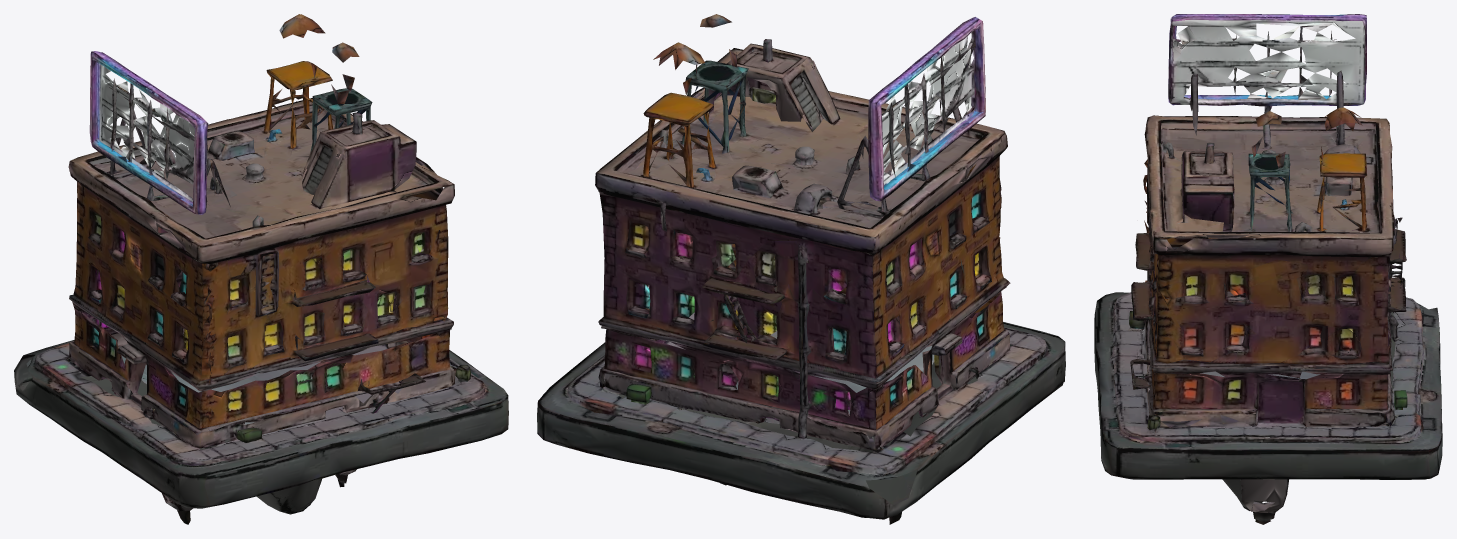
Rendered from tower-d.glb.
3 views of the same model, side by side, from view 1: azimuth 30°, elevation 25°; view 2: azimuth 150°, elevation 25°; view 3: azimuth 270°, elevation 25° (orthographic). The views are drawn at different scales.
Parts seen in each view (by area): view 1: geometry_0; view 2: geometry_0; view 3: geometry_0.
Boxes of the visible parts, x1,y1,x2,y2 form: geometry_0: (14, 14, 508, 524); geometry_0: (537, 14, 1065, 524); geometry_0: (1094, 14, 1442, 524).
Size of the model in its own units: 0.6822 by 0.8687 by 0.6398.
Materials: 1 (1 with a texture image).
